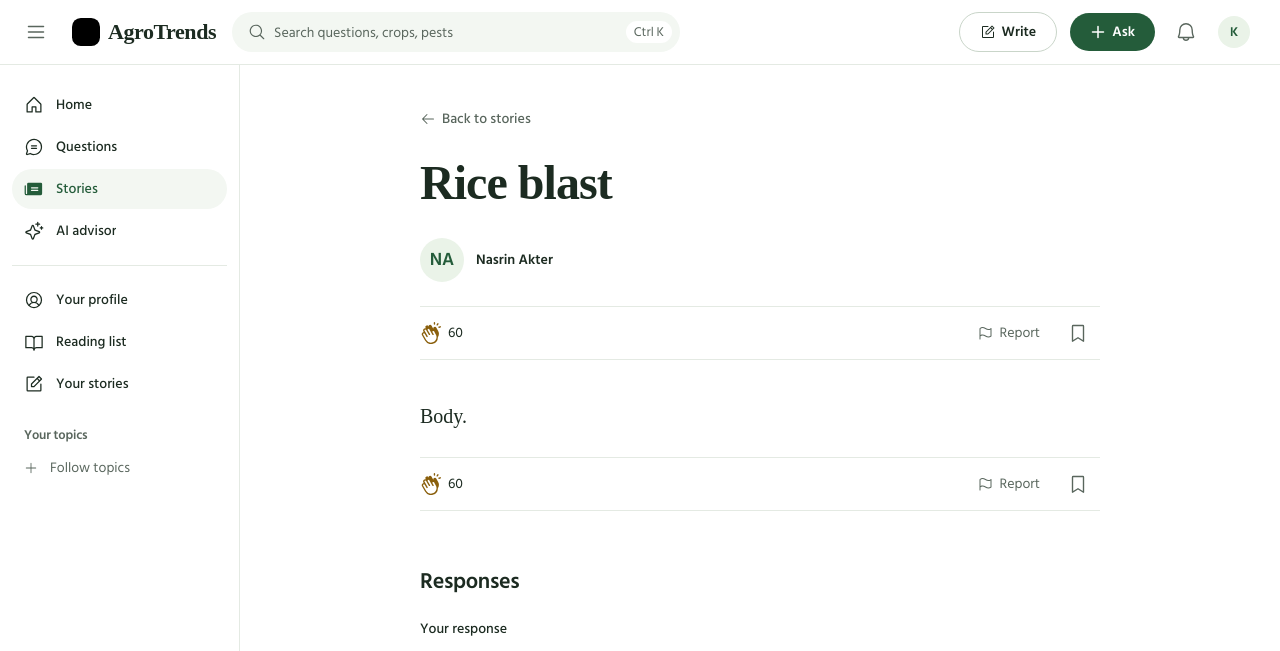
Test: claps stop at 50
Click the button named "Clap for this story" at [446, 333], box [420,311,471,355]
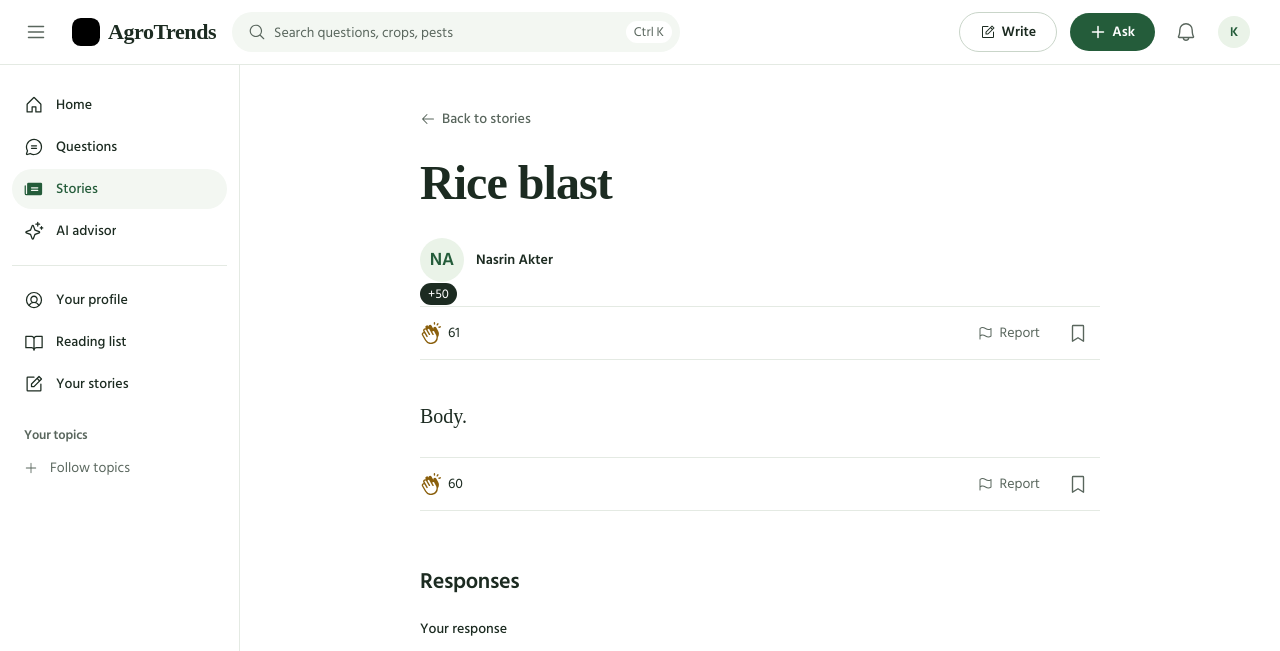
Result: the button named "Clap for this story" is disabled at [420,311,468,355]
